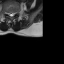CCS_stenosis: (10, 10, 12, 18)
LFS_normal: (14, 9, 16, 16)
LLS_normal: (12, 10, 14, 18)
RFS_normal: (6, 9, 8, 16)
RLS_normal: (8, 10, 10, 18)
